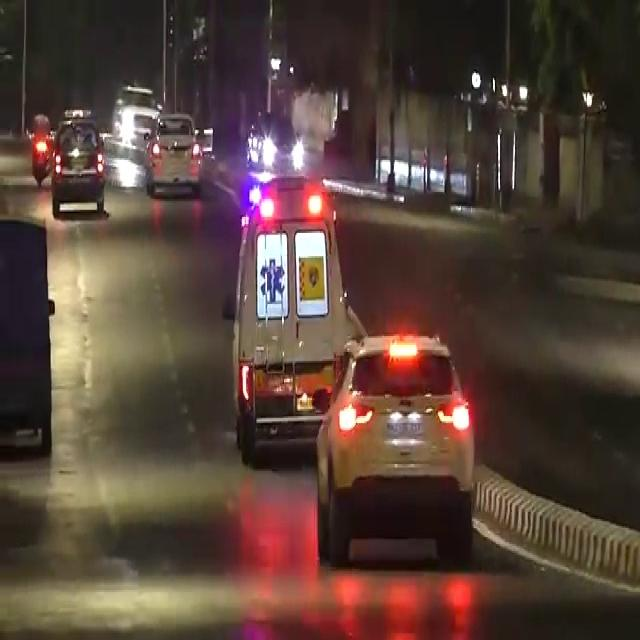ambulance: (228, 135, 358, 456)
